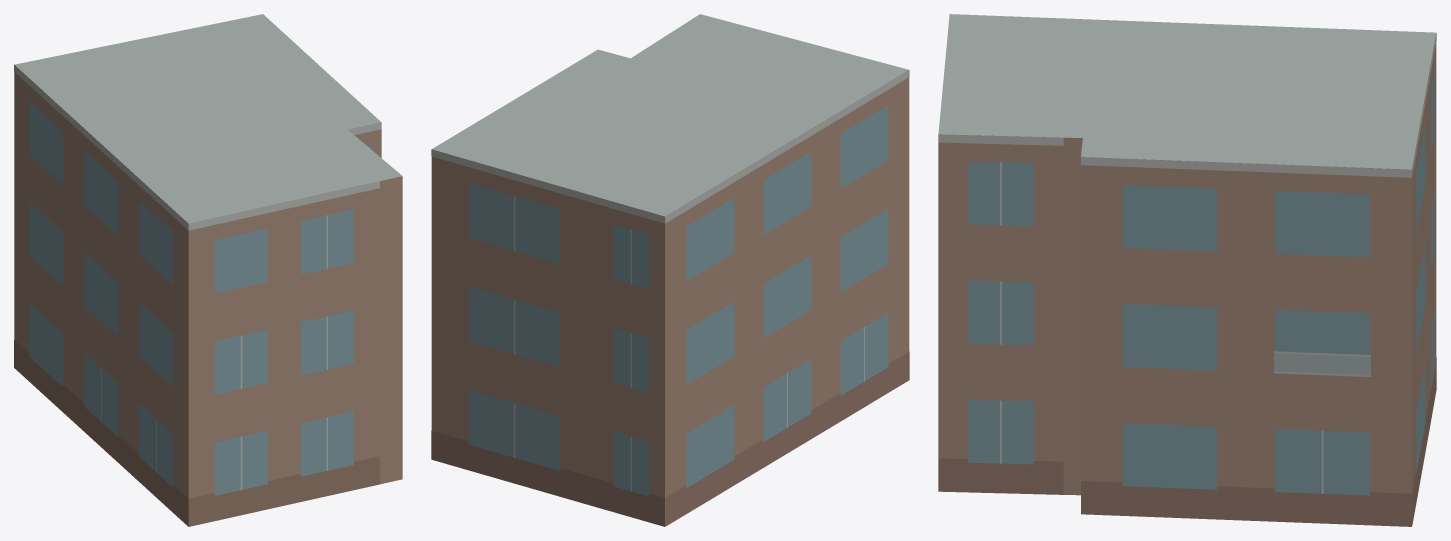
File: survey-upis-32631724.glb
3 renders of one model, left to right at view 1: azimuth 30°, elevation 25°; view 2: azimuth 150°, elevation 25°; view 3: azimuth 270°, elevation 25°, orthographic. The views are drawn at different scales.
Parts seen in each view (by area): view 1: survey-upis-32631724.tmp; view 2: survey-upis-32631724.tmp; view 3: survey-upis-32631724.tmp.
Part boxes in pixels (bbox=[...]): survey-upis-32631724.tmp: bbox=[14, 14, 402, 526]; survey-upis-32631724.tmp: bbox=[431, 14, 909, 526]; survey-upis-32631724.tmp: bbox=[938, 14, 1436, 526].
Size of the model in its own units: 9.91 by 10.6 by 13.4.
